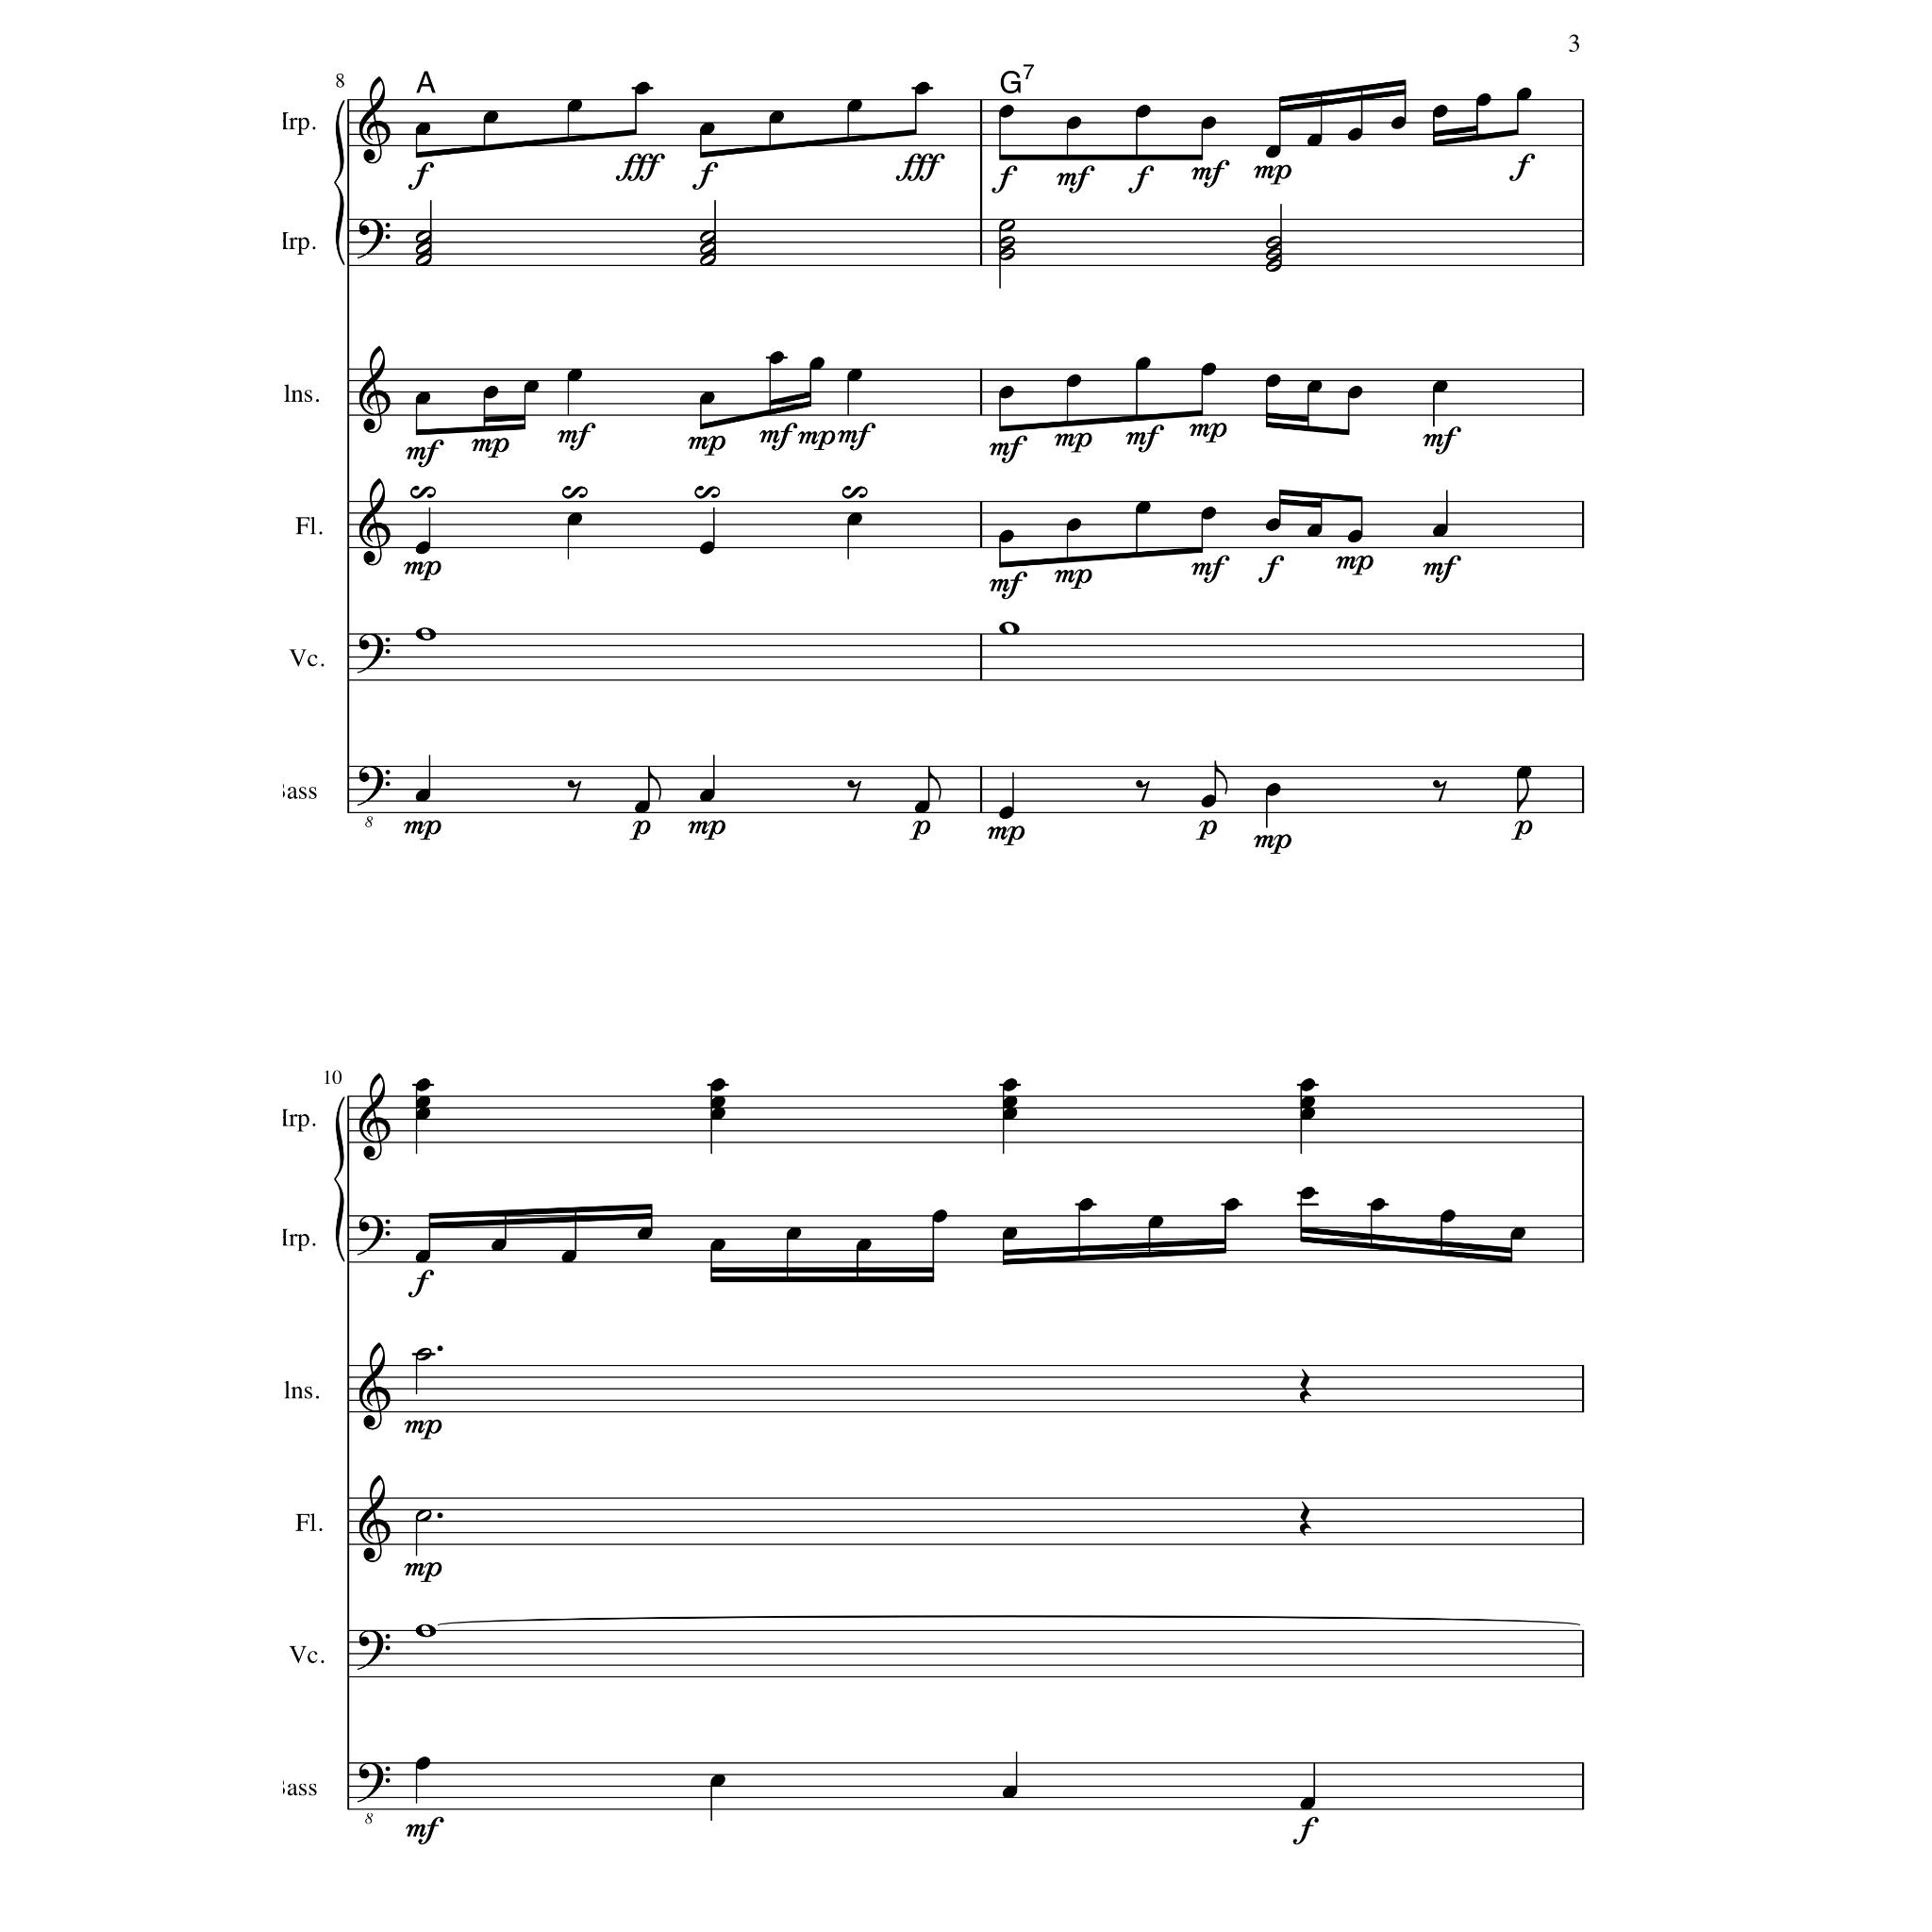brace: (333, 101, 345, 265), (333, 1097, 345, 1261)
fClef: (357, 219, 391, 260), (357, 633, 391, 674), (357, 766, 391, 807), (357, 1762, 391, 1803), (357, 1629, 391, 1670), (357, 1215, 391, 1256)
flag8thDown: (1516, 778, 1529, 812)
flag8thUp: (648, 766, 662, 801), (1214, 761, 1228, 794), (929, 766, 941, 801)
gClef: (359, 1474, 391, 1564), (359, 76, 391, 165), (359, 345, 391, 433), (359, 478, 391, 566), (359, 1343, 391, 1431), (359, 1072, 391, 1161)
noteheadBlack: (1299, 1077, 1316, 1092), (1299, 1095, 1316, 1109), (1369, 1198, 1387, 1212), (1265, 145, 1281, 159), (1201, 794, 1217, 809), (1306, 524, 1322, 538), (1201, 117, 1217, 131), (1065, 117, 1081, 131), (1201, 363, 1217, 377), (1136, 104, 1152, 119), (1136, 357, 1152, 372), (1136, 501, 1152, 515), (1201, 506, 1217, 520), (1391, 117, 1407, 131), (1431, 104, 1447, 119), (1431, 524, 1447, 538), (1346, 386, 1362, 400), (483, 386, 499, 400), (483, 110, 499, 124), (633, 81, 649, 96), (566, 368, 582, 382), (566, 513, 582, 527), (414, 391, 430, 405), (414, 541, 430, 556), (414, 122, 430, 136), (998, 104, 1014, 119), (998, 386, 1014, 400), (699, 122, 715, 136), (913, 81, 929, 96), (998, 807, 1014, 821), (768, 110, 784, 124), (768, 350, 784, 364), (699, 391, 715, 405), (699, 541, 715, 556), (809, 357, 824, 372), (847, 368, 863, 382), (847, 513, 863, 527), (1223, 1198, 1238, 1212), (1003, 1095, 1019, 1109), (1003, 1077, 1019, 1092), (855, 1238, 870, 1253), (1077, 1198, 1093, 1212), (1003, 1785, 1019, 1799), (414, 1095, 430, 1109), (414, 1077, 430, 1092), (414, 1757, 430, 1771), (414, 1249, 430, 1263), (709, 1238, 725, 1253), (709, 1077, 725, 1092), (709, 1095, 725, 1109), (561, 1249, 577, 1263), (492, 1238, 508, 1253), (1299, 1187, 1316, 1200), (1299, 1798, 1316, 1810), (1299, 1108, 1316, 1120), (1265, 375, 1281, 387), (1265, 518, 1281, 531), (1265, 784, 1281, 796), (1306, 134, 1322, 147), (1306, 380, 1322, 393), (1065, 375, 1081, 387), (1065, 518, 1081, 531), (1431, 380, 1447, 393), (1346, 129, 1362, 142), (1346, 531, 1362, 543), (1476, 94, 1491, 106), (524, 380, 540, 393), (566, 99, 582, 111), (633, 801, 649, 814), (414, 789, 430, 801), (998, 531, 1014, 543), (913, 801, 929, 814), (699, 789, 715, 801), (847, 99, 863, 111), (1148, 1215, 1164, 1228), (1003, 1108, 1019, 1120), (932, 1210, 948, 1223), (1003, 1228, 1019, 1240), (1440, 1210, 1456, 1223), (1509, 1228, 1525, 1240), (414, 1108, 430, 1120), (709, 1108, 725, 1120), (709, 1775, 725, 1787), (637, 1228, 653, 1240), (786, 1228, 801, 1240), (1516, 88, 1530, 101), (1516, 766, 1530, 778)
noteheadHalf: (1265, 248, 1283, 262), (1265, 235, 1283, 249), (998, 248, 1016, 262), (998, 235, 1016, 249), (699, 253, 717, 267), (699, 242, 717, 257), (699, 230, 717, 244), (416, 230, 432, 244), (416, 242, 432, 257), (416, 253, 432, 267), (416, 1509, 432, 1523), (416, 1348, 432, 1362), (1265, 260, 1283, 272), (998, 219, 1016, 232)
noteheadWhole: (414, 628, 437, 642), (998, 621, 1021, 635), (414, 1624, 437, 1638)
rest8th: (1134, 780, 1150, 803), (1431, 780, 1447, 803), (566, 780, 582, 803), (846, 780, 862, 803)
restQuarter: (1299, 1500, 1311, 1537), (1299, 1368, 1311, 1403)
